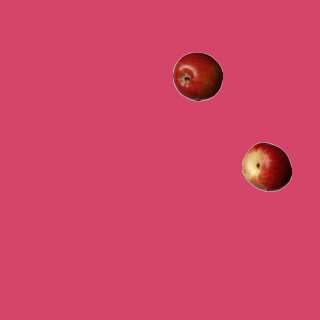Apple Braeburn: (172, 51, 222, 101)
Nectarine: (241, 141, 291, 191)
